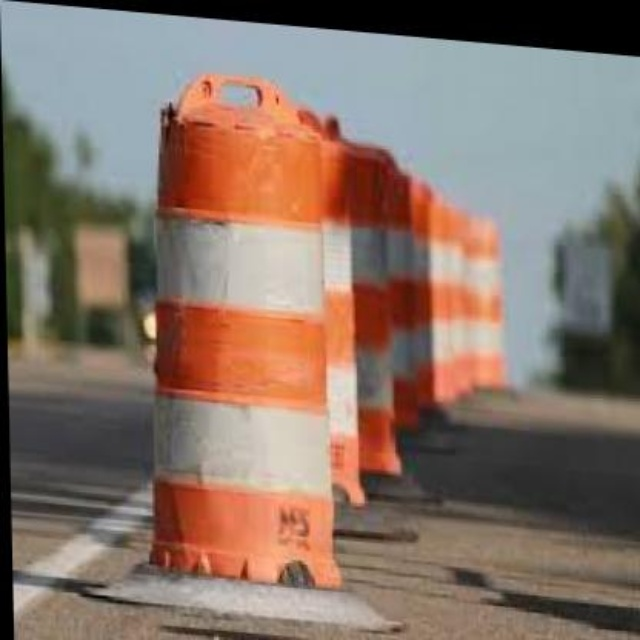obstacle: (118, 67, 343, 596)
